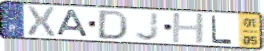A: (55, 9, 90, 39)
D: (96, 10, 130, 41)
H: (171, 12, 207, 44)
J: (134, 11, 161, 42)
L: (211, 14, 234, 46)
X: (25, 5, 57, 38)
